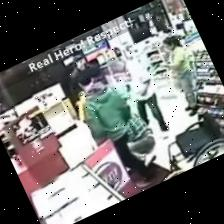person: (79, 66, 153, 187), (125, 58, 169, 131), (164, 36, 198, 115)
